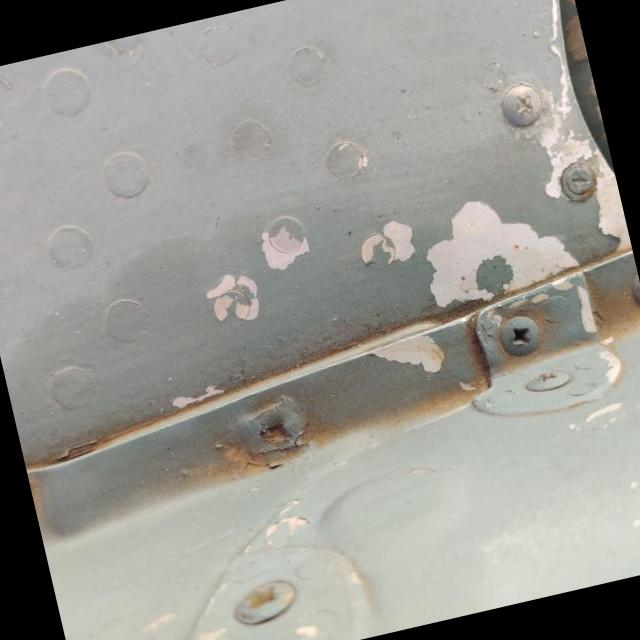Paint-off: (428, 202, 599, 366), (526, 121, 633, 263), (268, 317, 448, 380), (352, 218, 415, 269)
